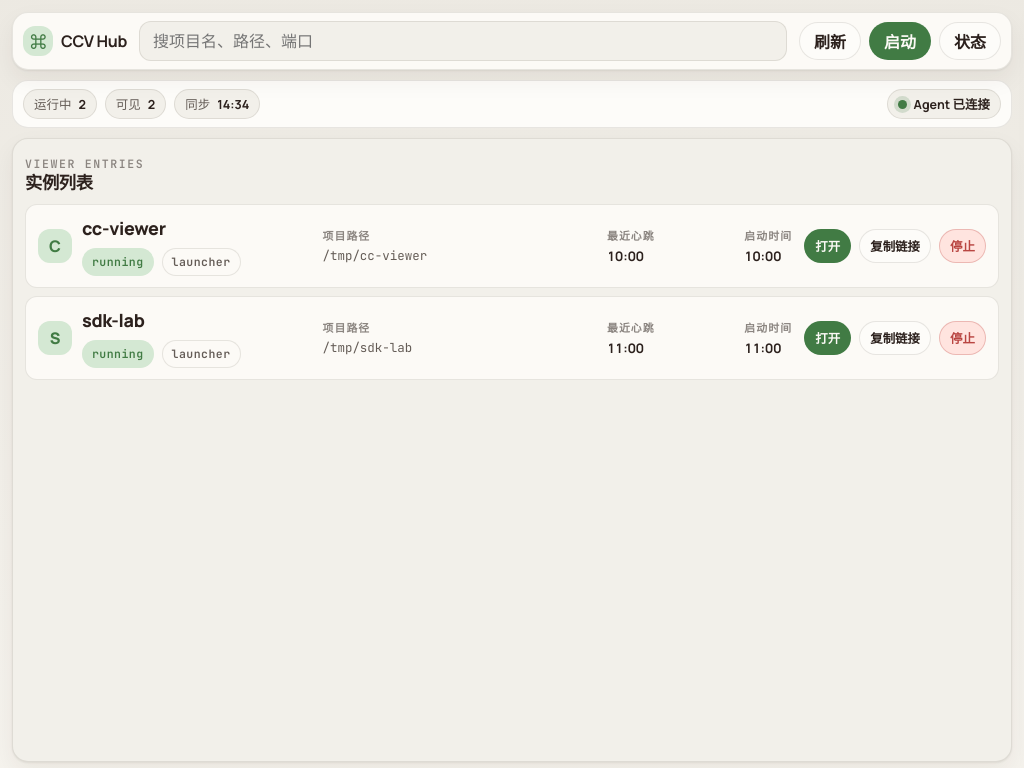
it: OverviewPage › renders list-ready state and filters instances by project name
The width and height of the screenshot is (1024, 768).
Expected: the heading "cc-viewer" is shown, [82,216,166,240]
Type "sdk" into the field with placeholder "搜项目名、路径、端口".
click(463, 41); type("sdk")  # box [139,21,787,61]
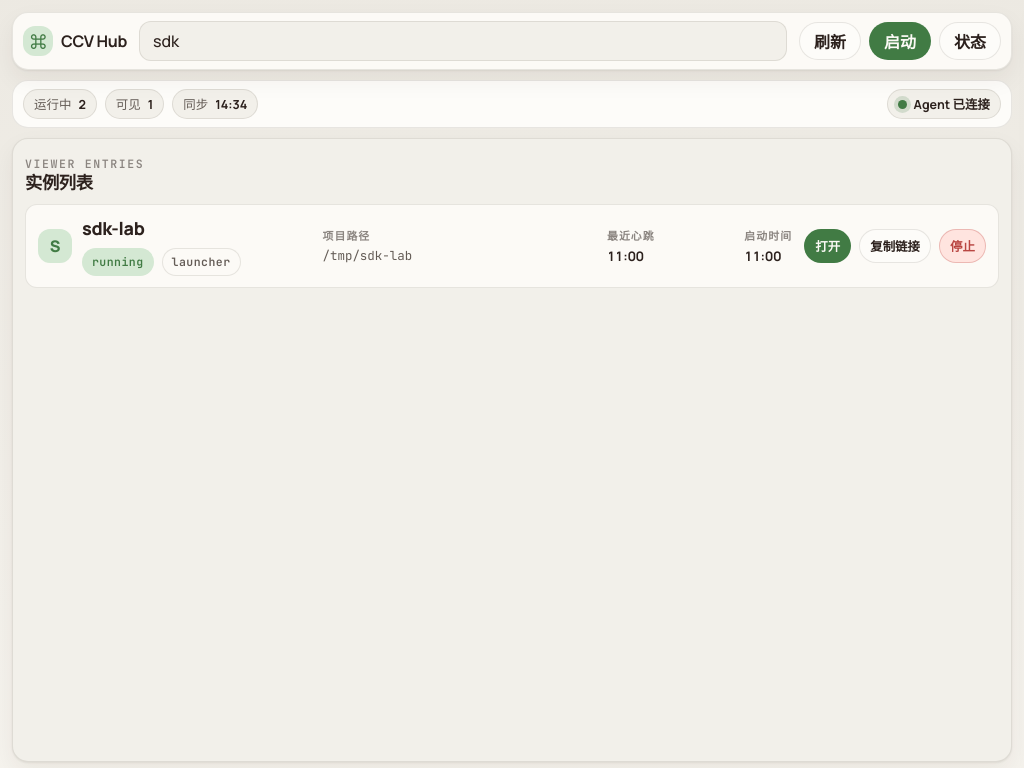
Expected: the heading "sdk-lab" is shown, [82,216,144,240]
Result: the heading "cc-viewer" is gone
